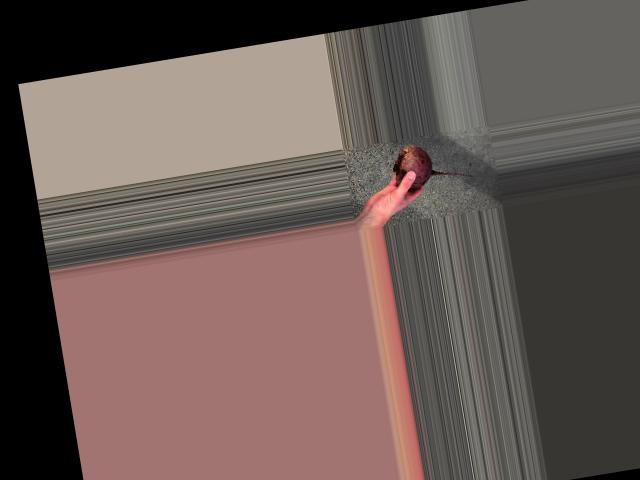beet: (390, 136, 473, 190)
